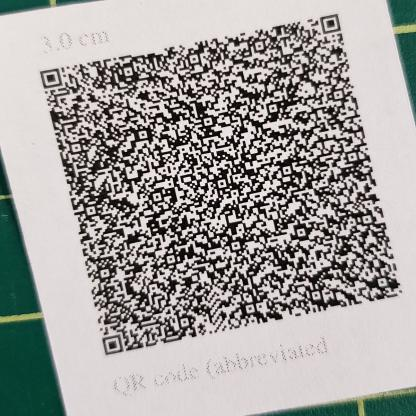qr: (37, 10, 411, 359)
